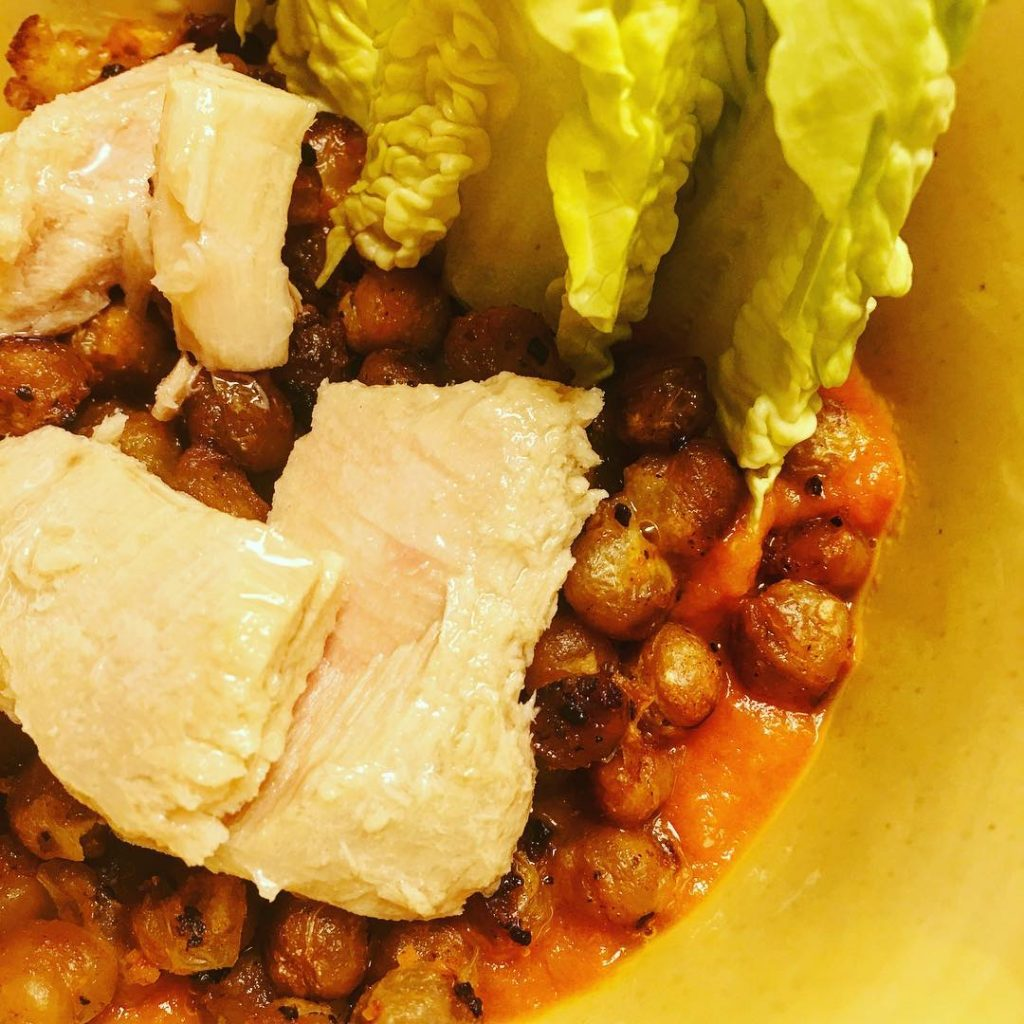chopped lettuce: (396, 27, 845, 307)
